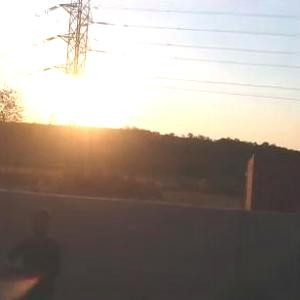follow: (0, 197, 69, 299)
